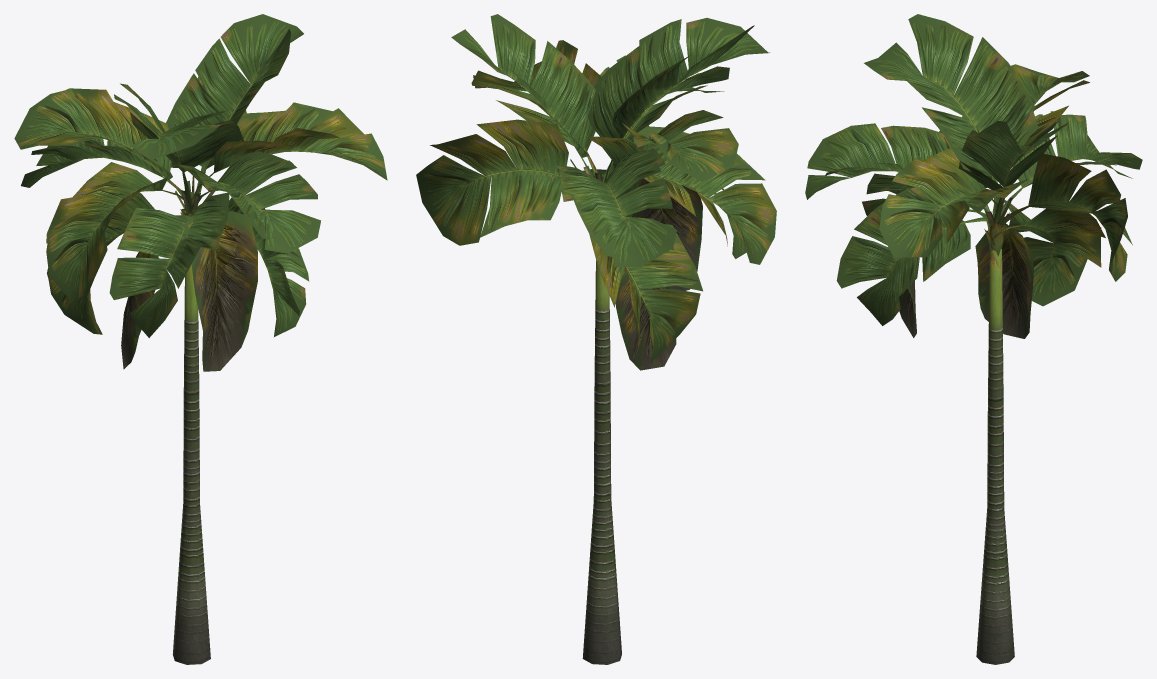
File: Arcea_palm4.fbx
The picture shows the model from 3 angles, left to right: view 1: azimuth 30°, elevation 25°; view 2: azimuth 150°, elevation 25°; view 3: azimuth 270°, elevation 25°; orthographic projection. The views are drawn at different scales.
Parts seen in each view (by area): view 1: polySurface117; view 2: polySurface117; view 3: polySurface117.
Boxes of the visible parts, x1,y1,x2,y2 form: polySurface117: (14,14,387,664); polySurface117: (416,14,776,664); polySurface117: (805,14,1142,664).
Size of the model in its own units: 8.06 by 15.27 by 7.89.
